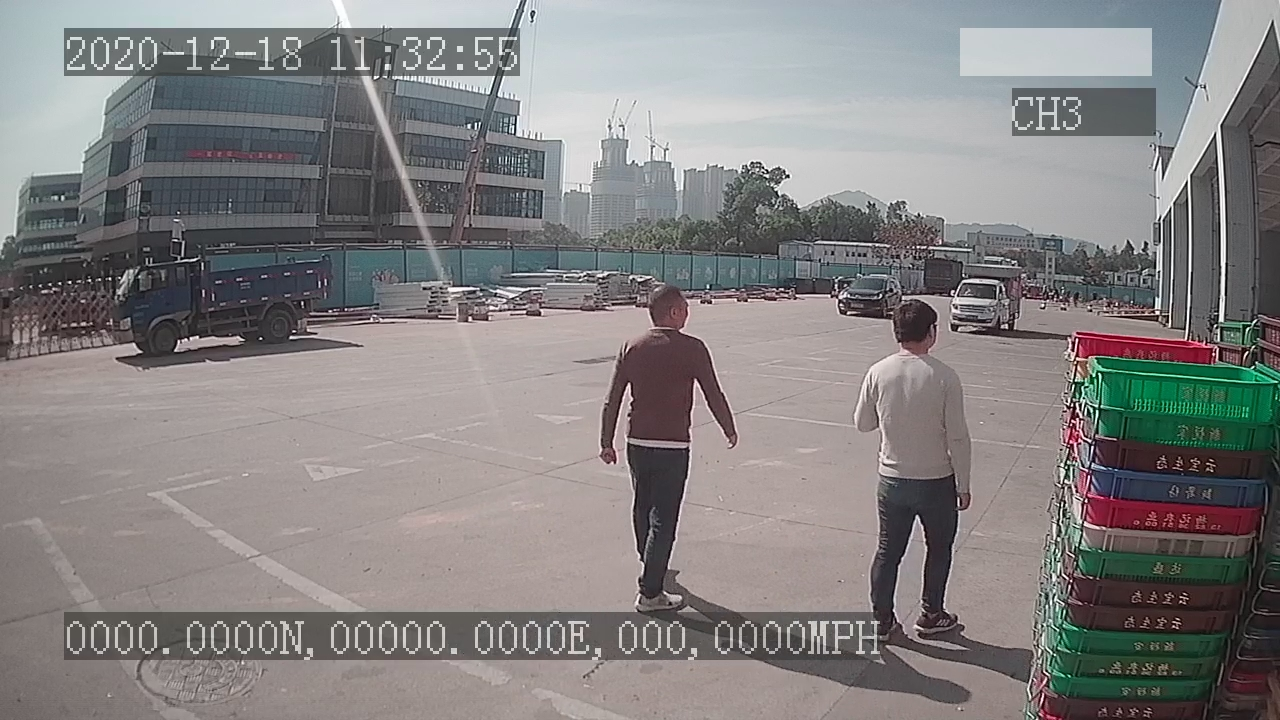person: (600, 279, 741, 613)
